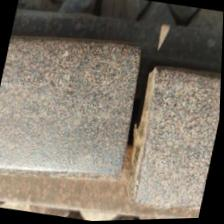person: (46, 0, 224, 223)
